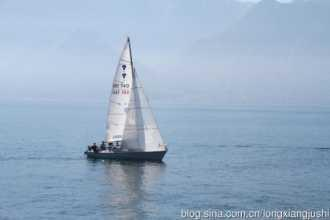fanchuan: (84, 37, 179, 162)
